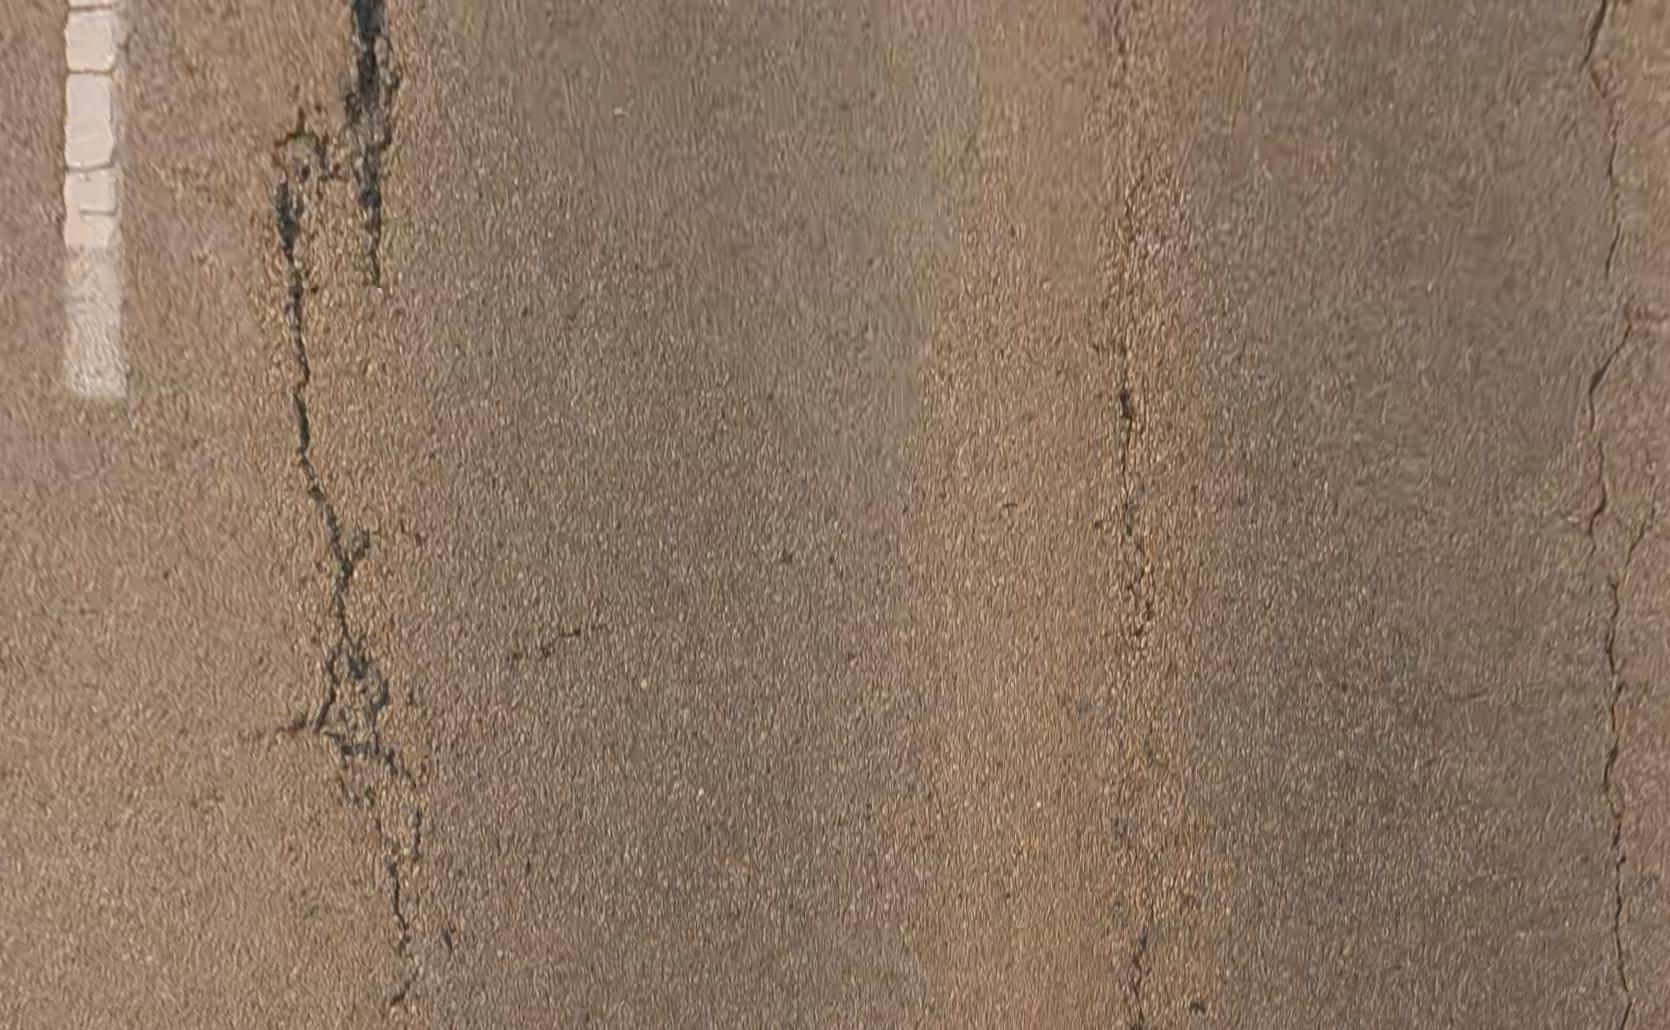pothole: (344, 0, 400, 283), (273, 177, 299, 253)
